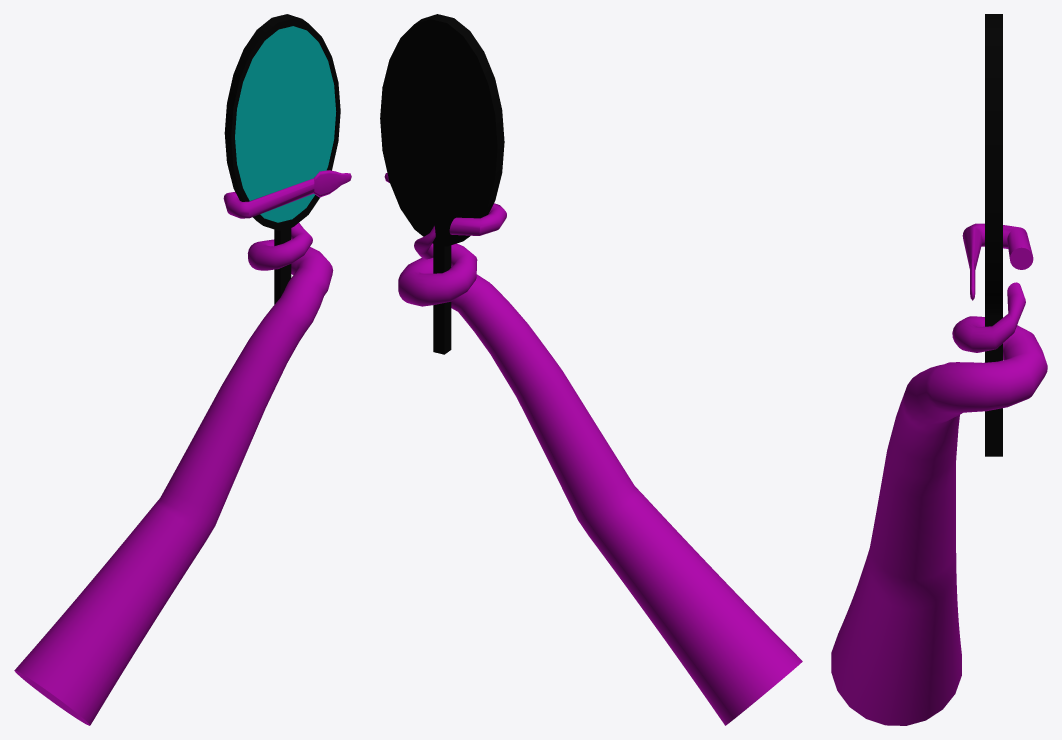
The model's file is FinalMirror.fbx.
3 renders of one model, left to right at view 1: azimuth 30°, elevation 25°; view 2: azimuth 150°, elevation 25°; view 3: azimuth 270°, elevation 25°, orthographic. The views are drawn at different scales.
Parts seen in each view (by area): view 1: pCylinder3, pCylinder1, pCylinder4, pCube1; view 2: pCylinder3, pCylinder1, pCylinder4; view 3: pCylinder3, pCylinder1, pCylinder4.
Boxes of the visible parts, x1,y1,x2,y2 form: pCylinder3: [14, 223, 333, 725]; pCylinder1: [224, 14, 340, 304]; pCylinder4: [223, 178, 314, 218]; pCube1: [313, 170, 351, 197]; pCylinder3: [398, 226, 802, 725]; pCylinder1: [380, 14, 504, 354]; pCylinder4: [449, 203, 506, 235]; pCylinder3: [831, 282, 1047, 725]; pCylinder1: [985, 14, 1002, 456]; pCylinder4: [962, 223, 1033, 270].
Size of the model in its own units: 19.46 by 7.34 by 32.45.
